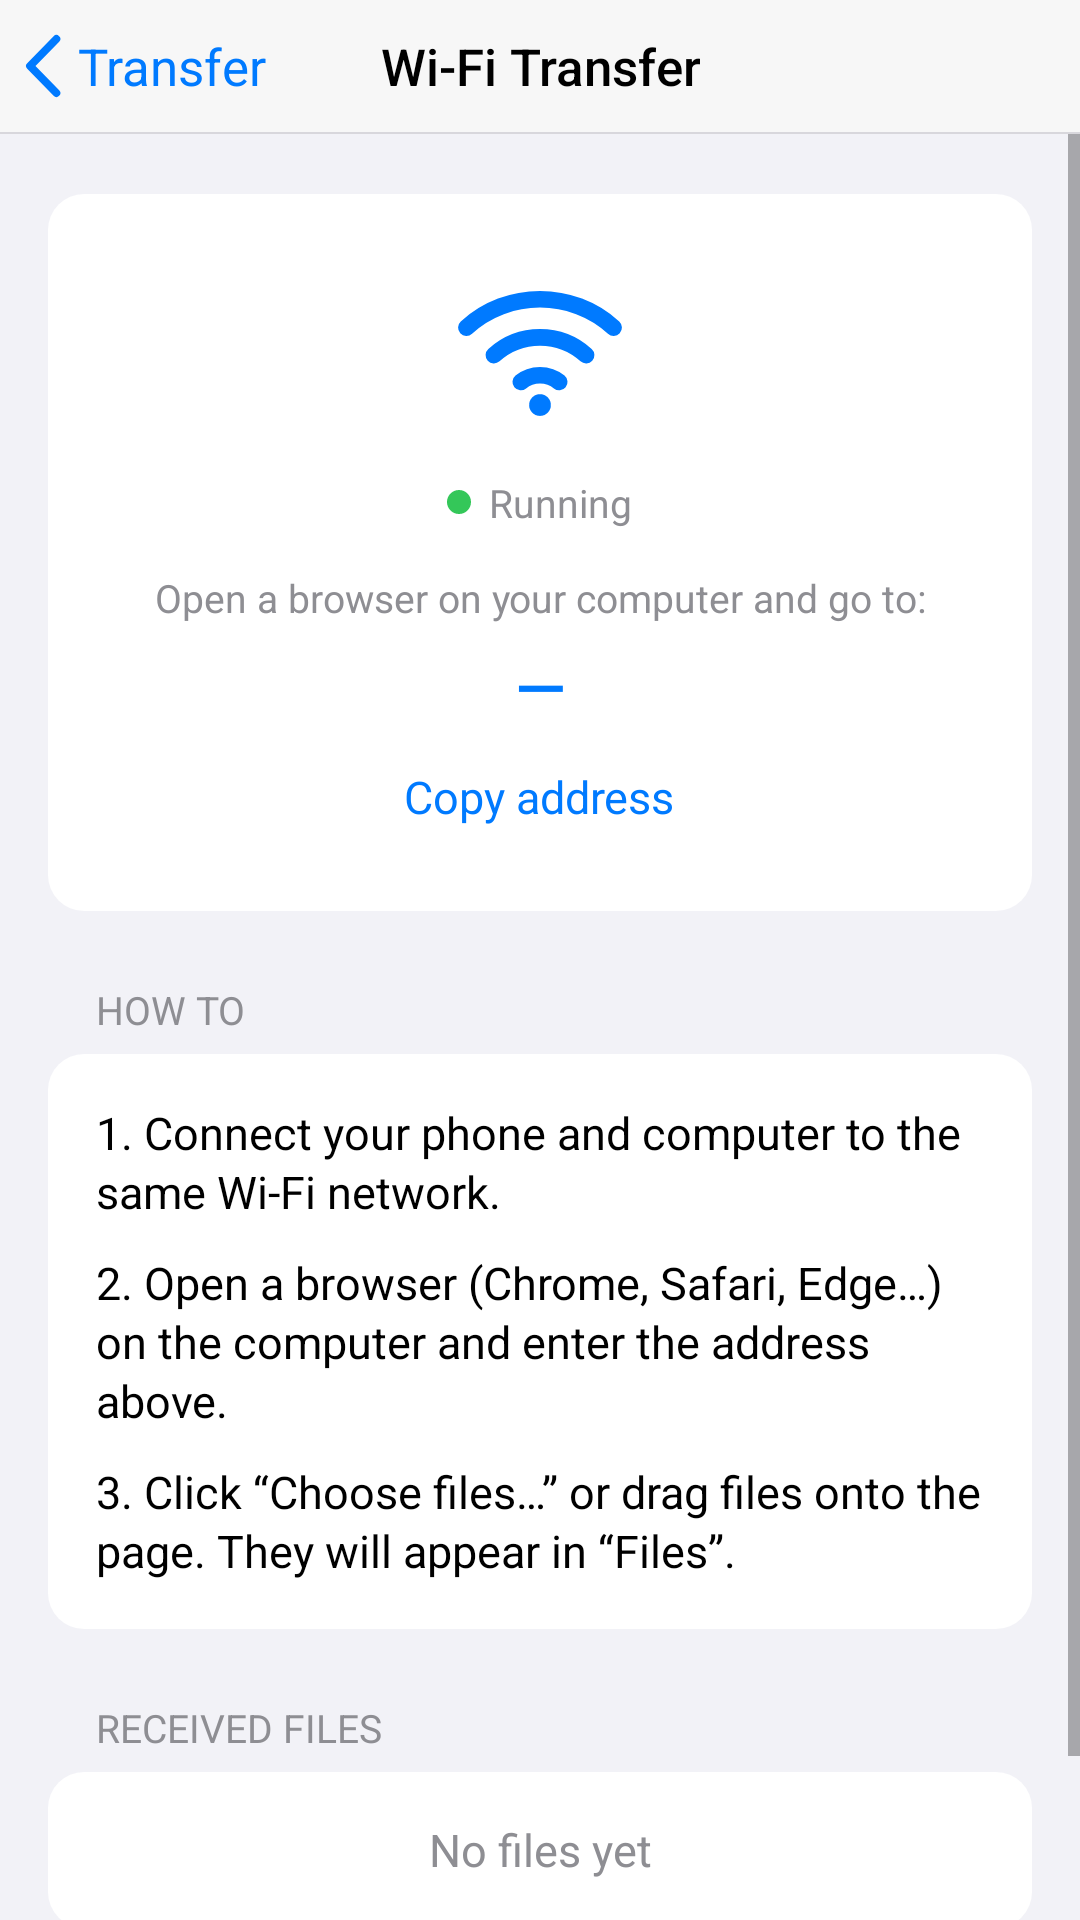

Icon click points for this 1080 × 1920 phone screenshot, format (x=x, y=y):
back: (x=43, y=66)
transfer wifi: (x=540, y=353)
